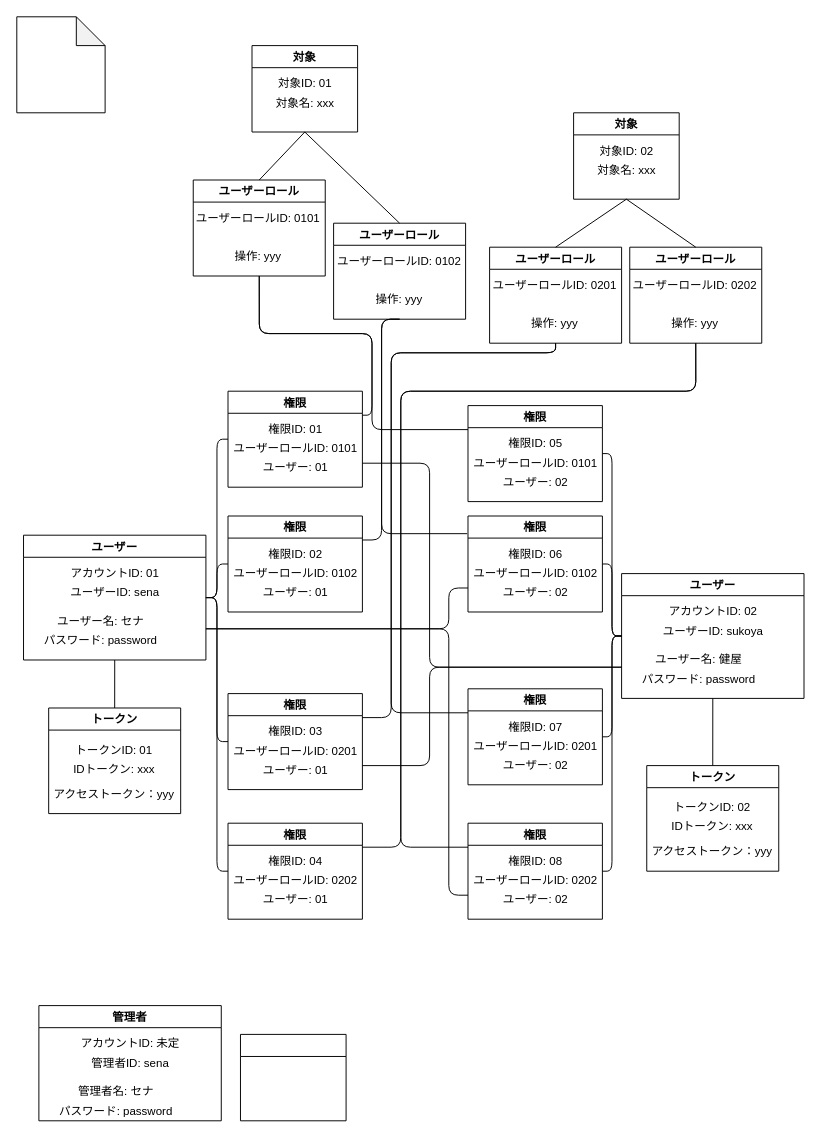
Some shapes in this 821 by 1138 pixel diagram are drawn without their labels. Here are the shapes that lost their labels. From the top down, the box of each, then its label:
(16, 16, 105, 113): Service : info Context : authControl
(240, 1033, 346, 1121): 管理者ロール01
